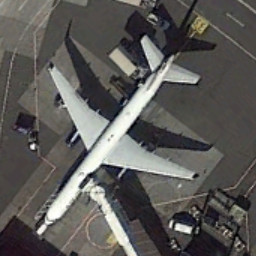Airplane: (34, 25, 210, 237)
